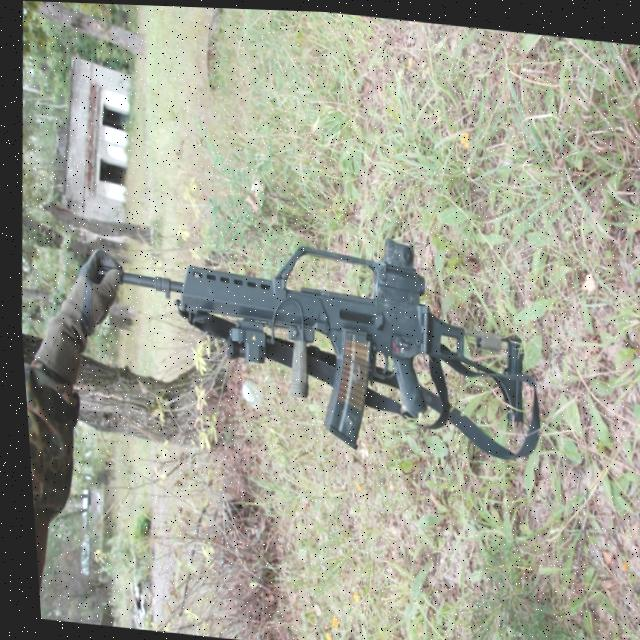firearm: (73, 201, 533, 464)
